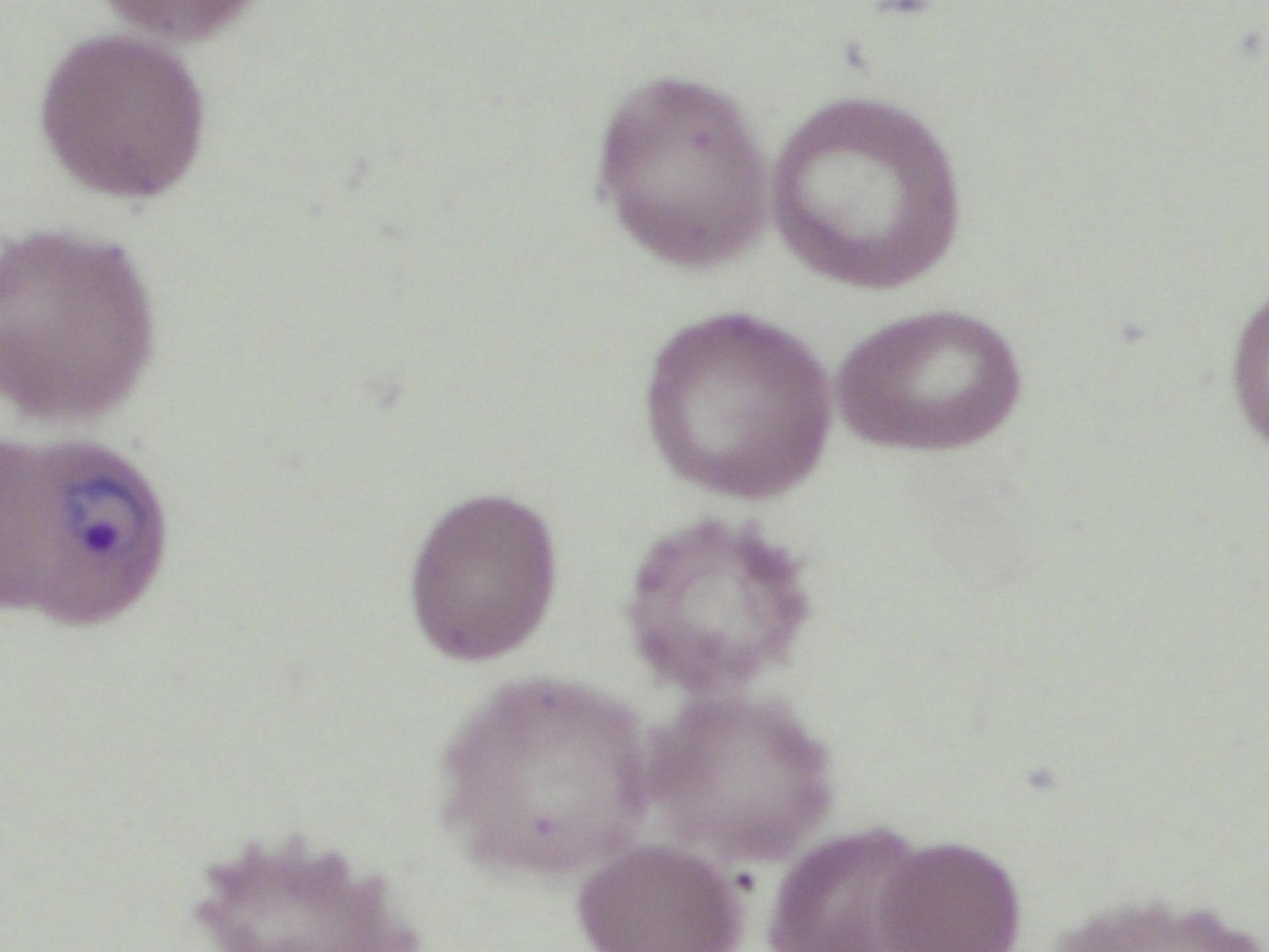Infected: (7, 437, 166, 624)
Uninfected: (443, 678, 646, 872), (780, 104, 956, 287), (648, 316, 827, 494), (641, 698, 830, 859), (627, 519, 806, 686), (610, 84, 767, 265), (0, 234, 153, 419), (835, 313, 1022, 453), (193, 838, 421, 951), (48, 38, 198, 197), (413, 499, 552, 657), (773, 834, 918, 952), (581, 848, 735, 952), (876, 847, 1017, 952)
